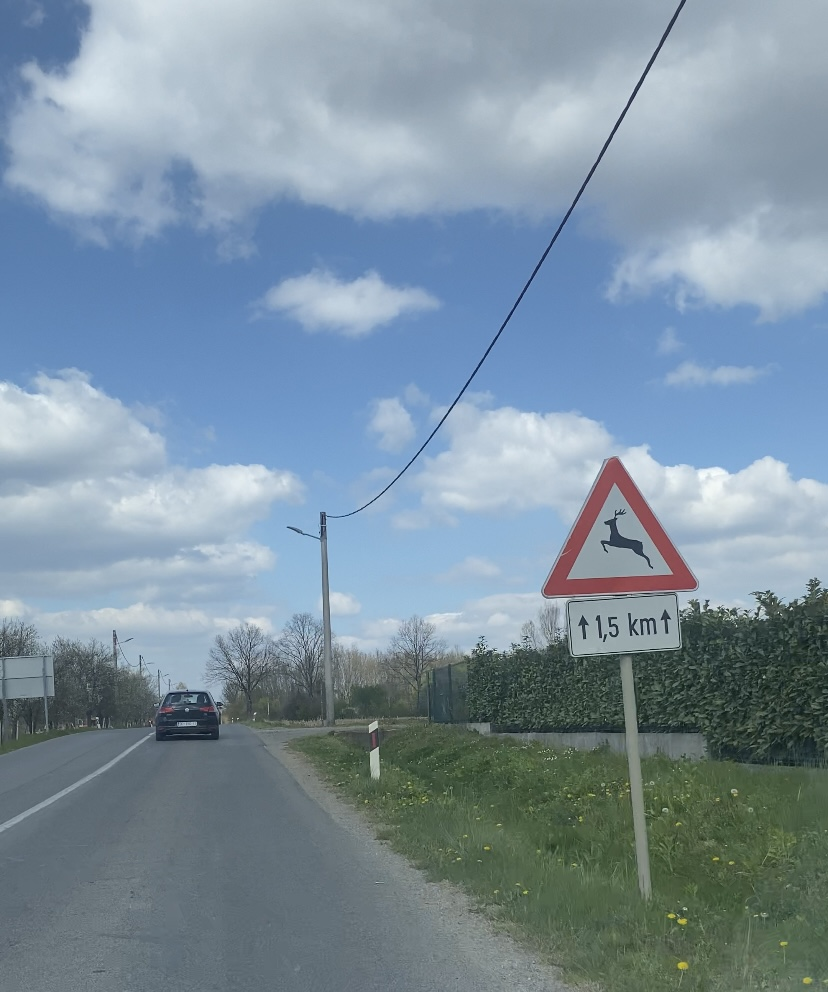Divljač na cesti: (540, 455, 698, 597)
